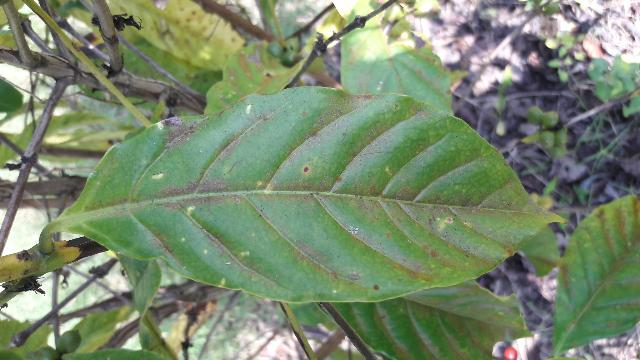red_spider_mite: (45, 81, 563, 304)
